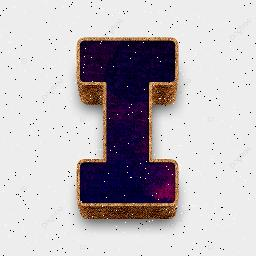i: (54, 0, 194, 232)
